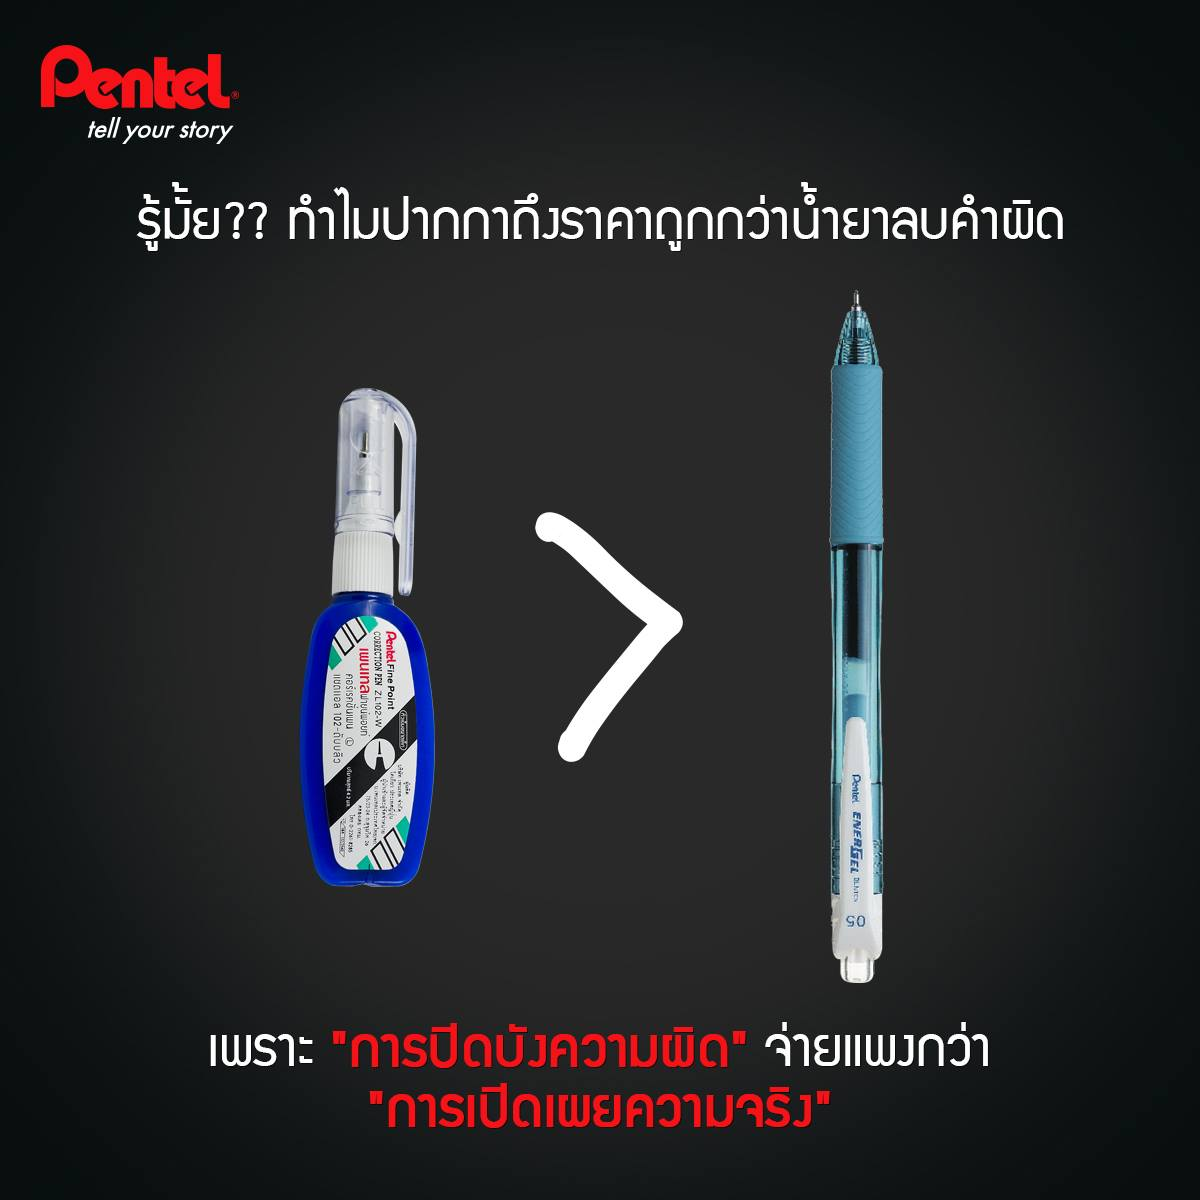Correction_fluid: (296, 376, 441, 895)
